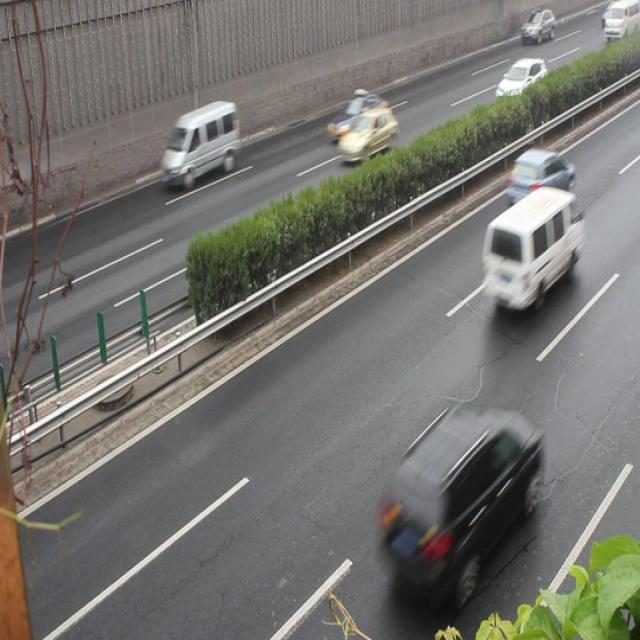car: (382, 410, 536, 578), (506, 147, 574, 210), (336, 107, 396, 163), (326, 92, 388, 145), (494, 57, 547, 103)
truck: (481, 188, 580, 310), (160, 102, 238, 186)
